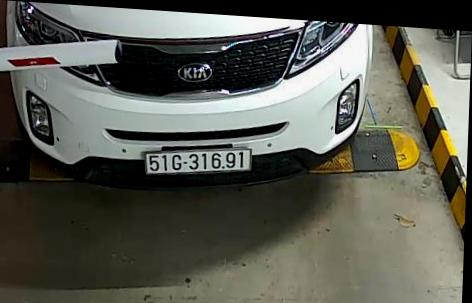License_Plate: (136, 141, 255, 180)
